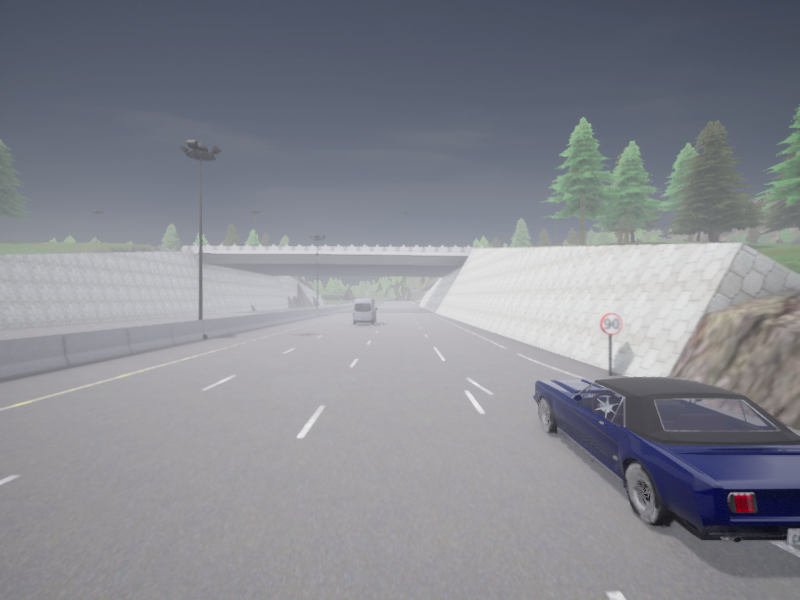vehicle: (533, 377, 799, 543), (353, 299, 377, 324)
